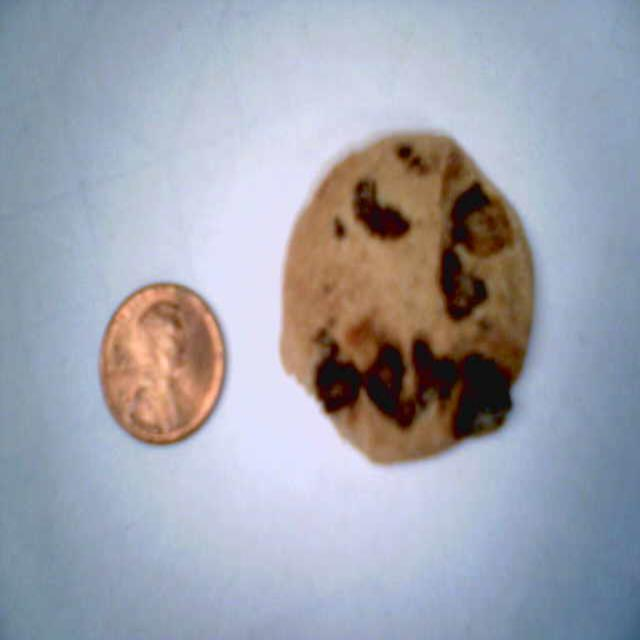Coin: (105, 281, 225, 439)
